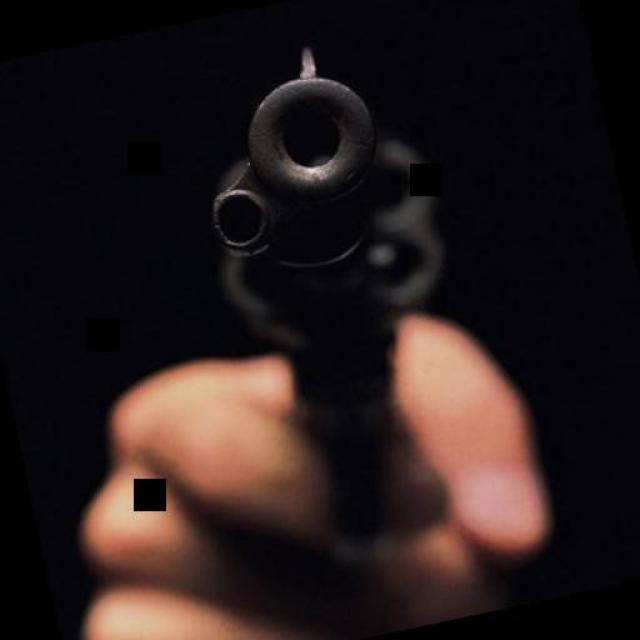gun: (164, 19, 518, 564)
